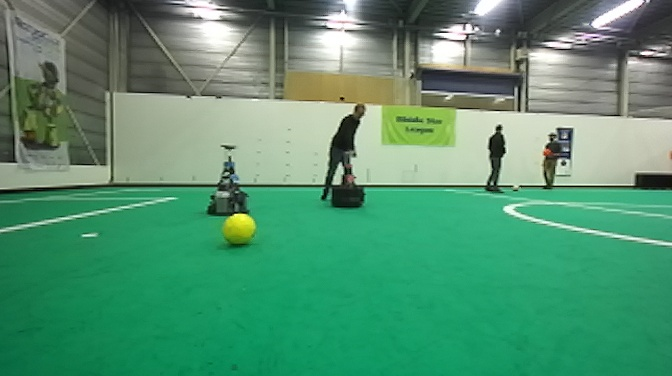ball: (222, 213, 256, 247), (510, 182, 521, 192), (542, 146, 552, 157)
human: (319, 102, 367, 200), (482, 123, 507, 193), (539, 131, 564, 190)
robot: (205, 143, 252, 217), (330, 150, 366, 209)
